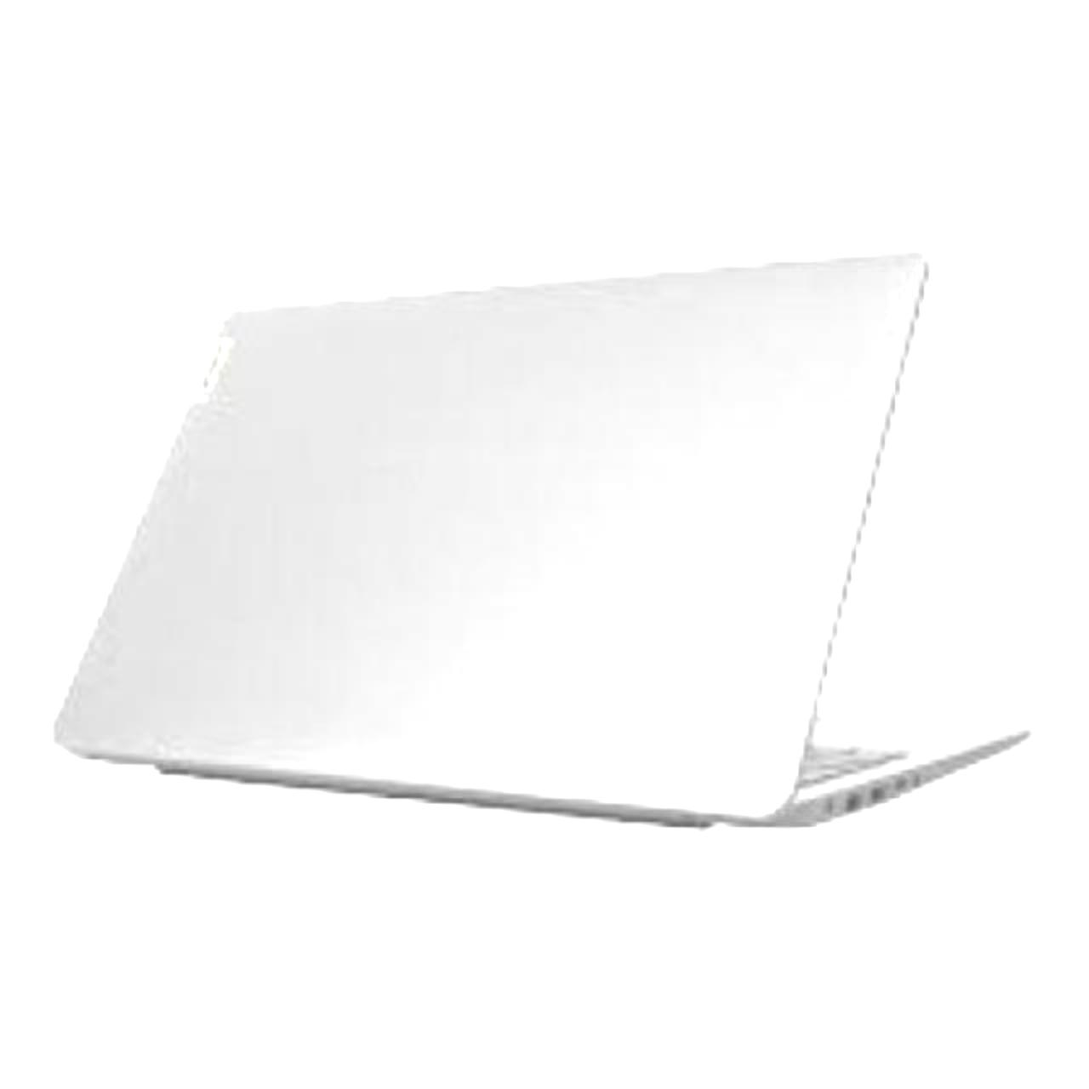laptop: (54, 234, 1052, 872)
